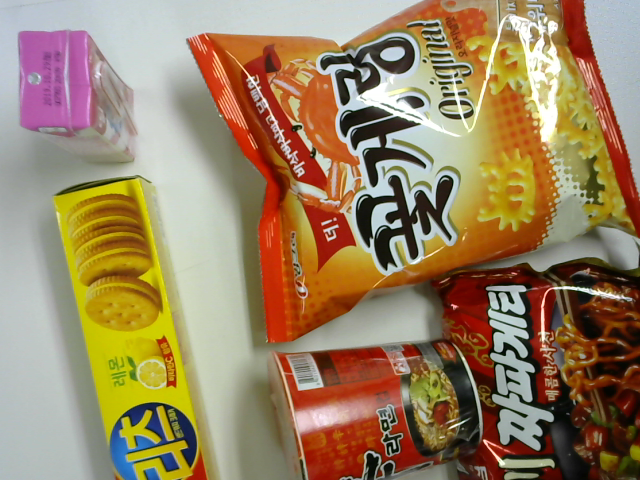Crabrang: (185, 2, 640, 345)
Ritz_Remon_96g: (47, 174, 229, 480)
Sichuan_Chapaghetti: (433, 260, 640, 475)
Sinramen_small: (265, 338, 487, 480)
Strawberry_E_Mong: (17, 26, 143, 166)
